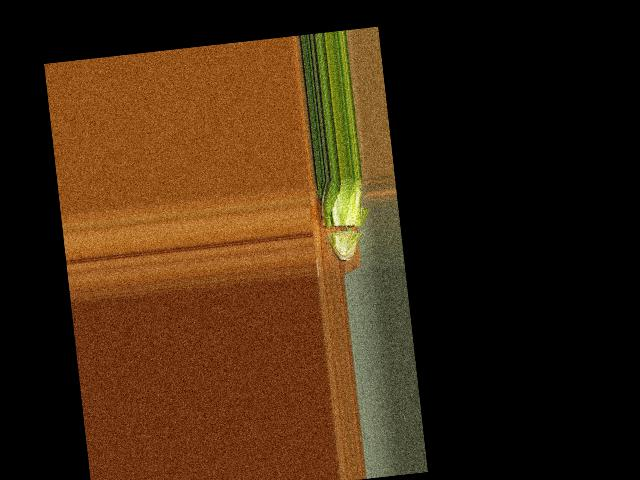lettuce: (312, 177, 372, 262)
